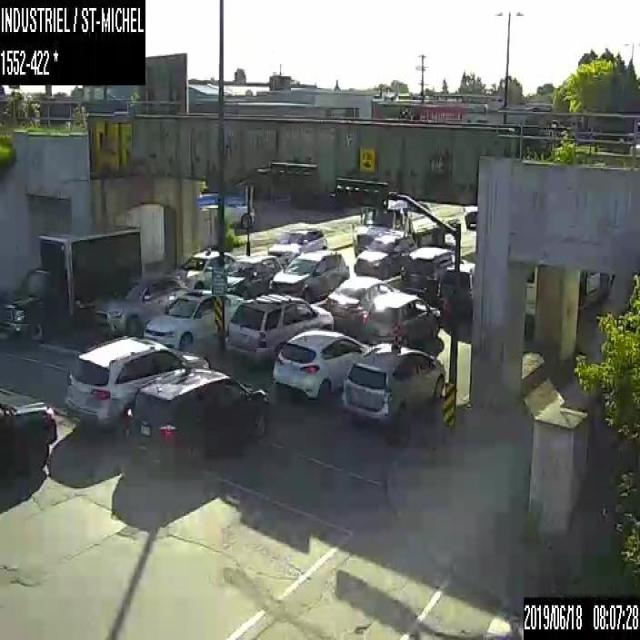vehicle: (0, 223, 141, 339), (124, 366, 268, 468), (65, 335, 210, 427), (339, 341, 444, 423), (225, 293, 334, 362), (271, 328, 371, 398), (142, 288, 243, 354), (353, 198, 458, 261), (93, 276, 190, 336), (518, 270, 616, 314), (268, 249, 349, 302), (0, 396, 55, 474), (325, 276, 400, 332), (364, 290, 439, 343), (352, 230, 415, 278), (401, 244, 455, 299), (172, 247, 234, 290), (222, 254, 280, 294), (436, 260, 475, 318), (199, 193, 254, 228), (266, 225, 326, 256), (464, 204, 476, 229)
